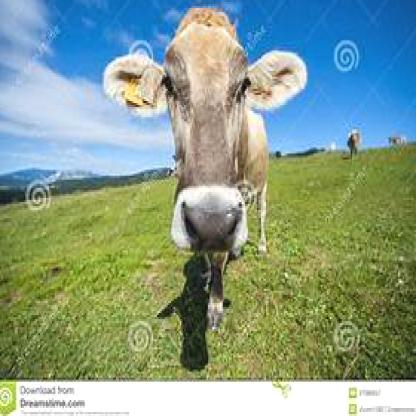cow: (104, 6, 308, 329)
